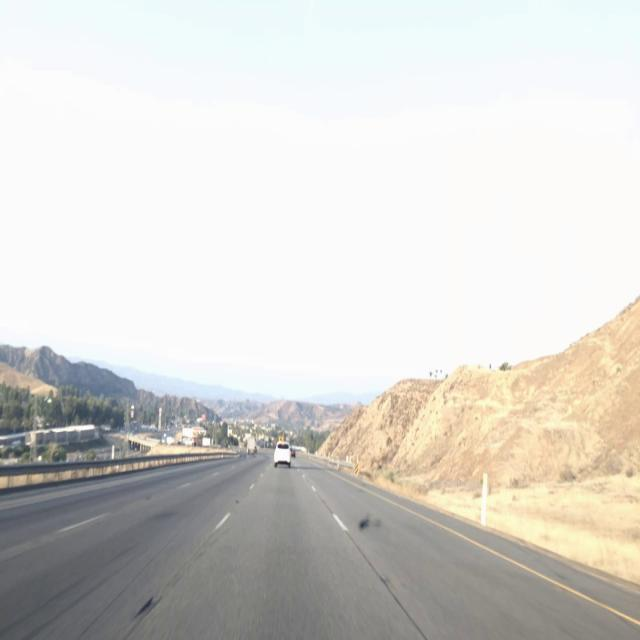Vehicle: (270, 425, 292, 471)
